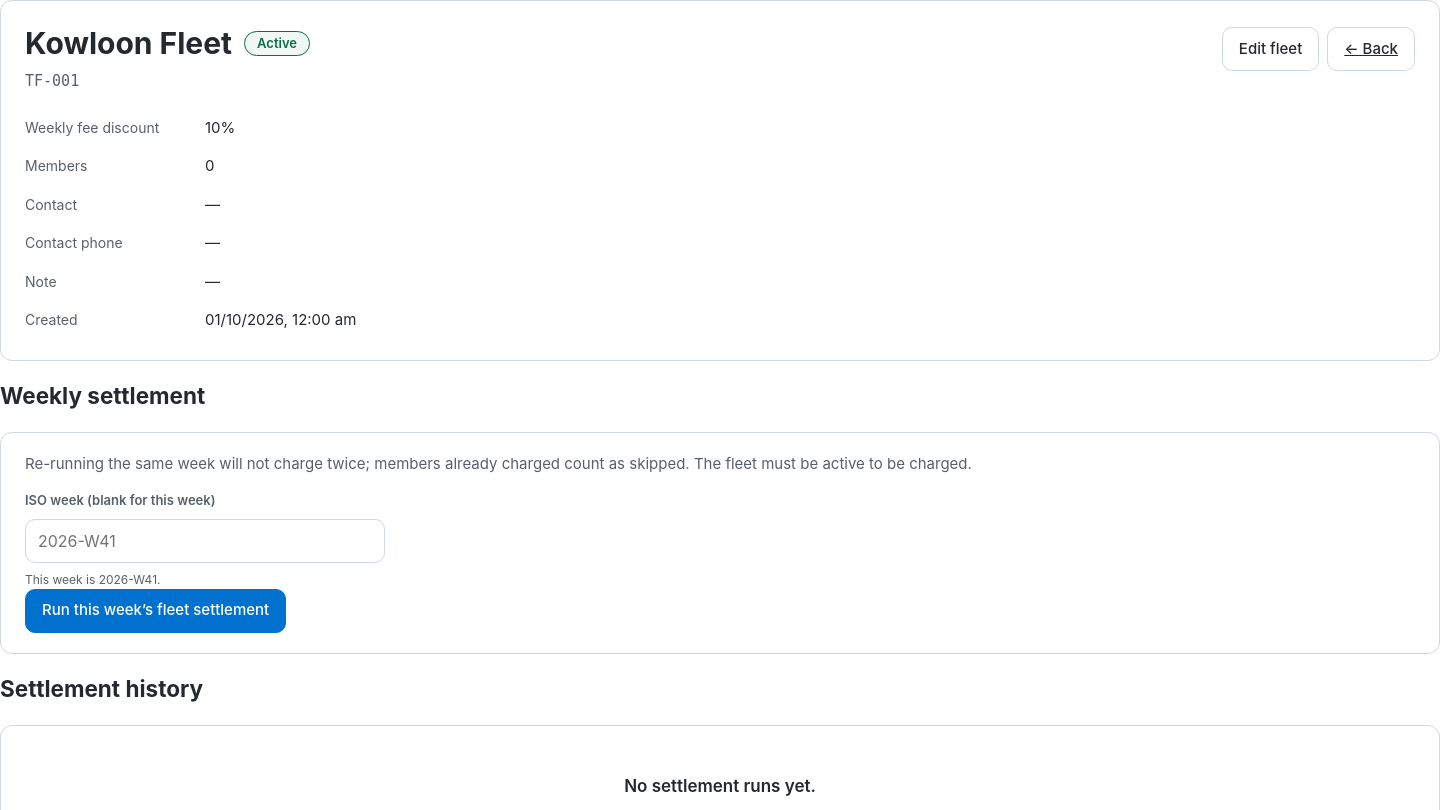
Test: the fleet settlement lever › reports a failed settlement below the lever, not inside the modal
Click the button "Run this week’s fleet settlement" at coordinates (156, 611), box top-left (25, 589), bottom-right (286, 633)
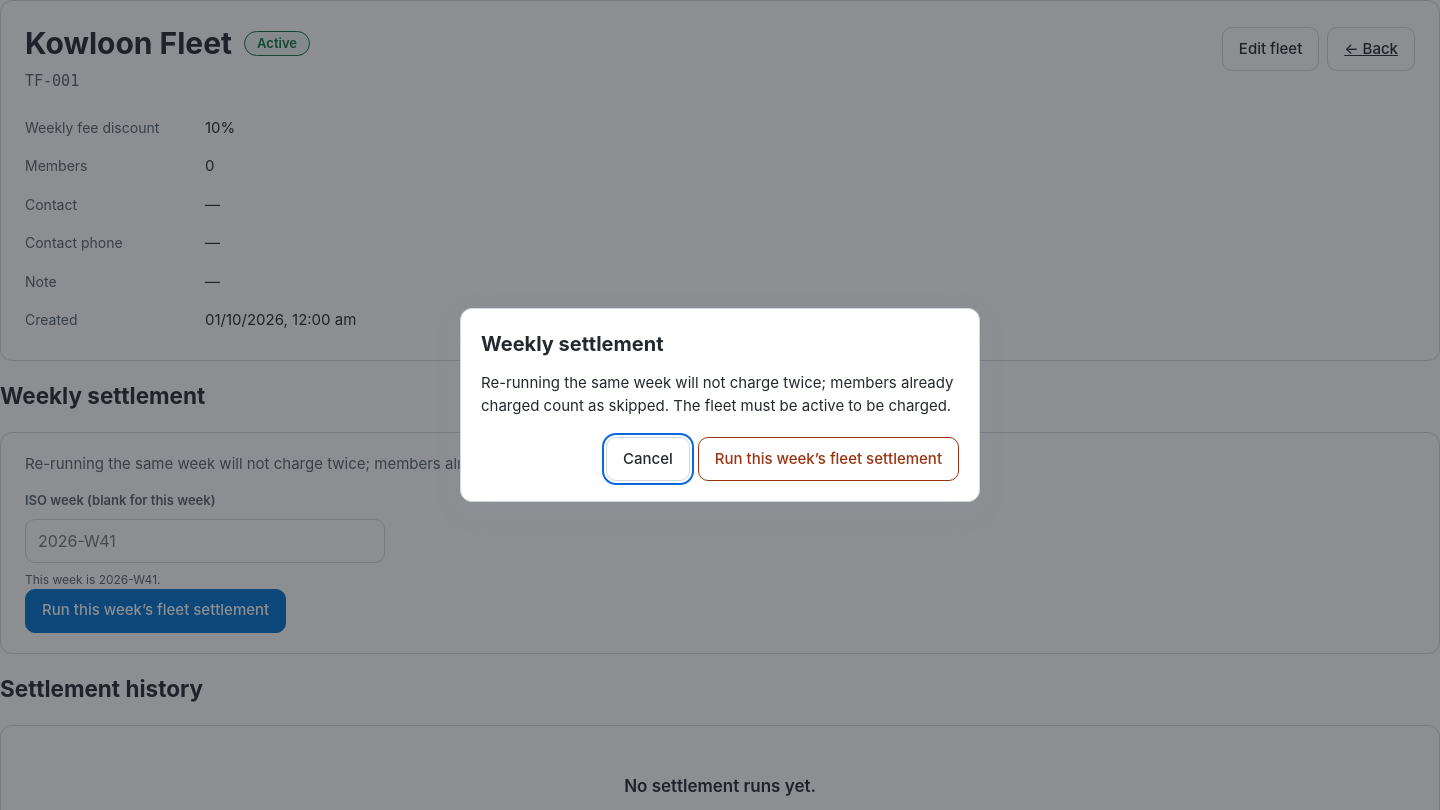
Click the button with class "btn--danger" at coordinates (828, 459), box top-left (698, 437), bottom-right (959, 481)
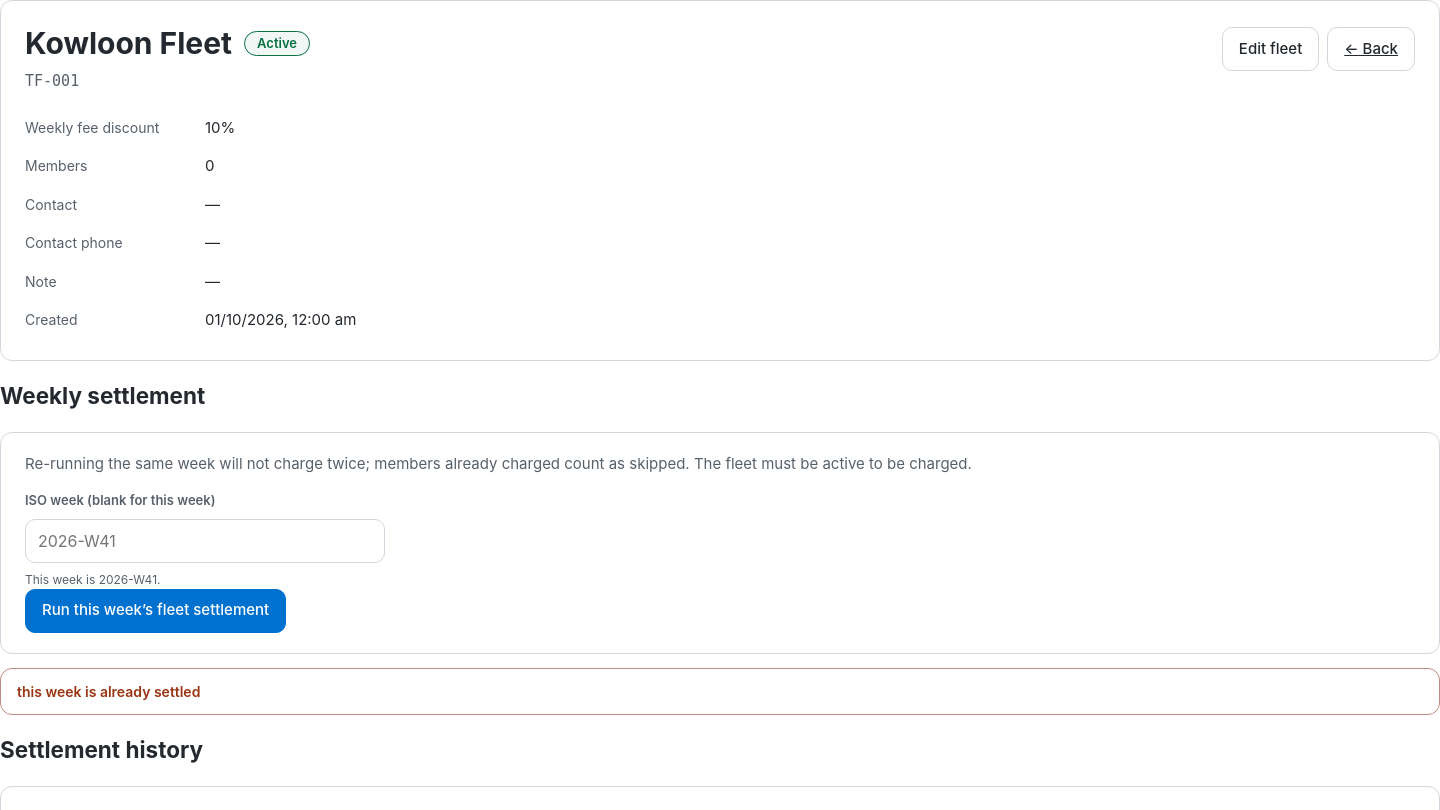
Now the dialog with class "modal" is gone
Now the message with class "message--error" reads "this week is already settled", box top-left (17, 683), bottom-right (200, 700)
